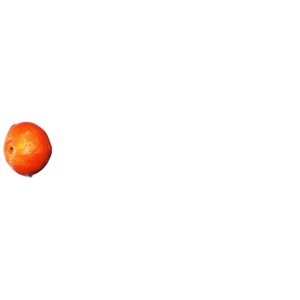tangerina: (4, 123, 52, 177)
